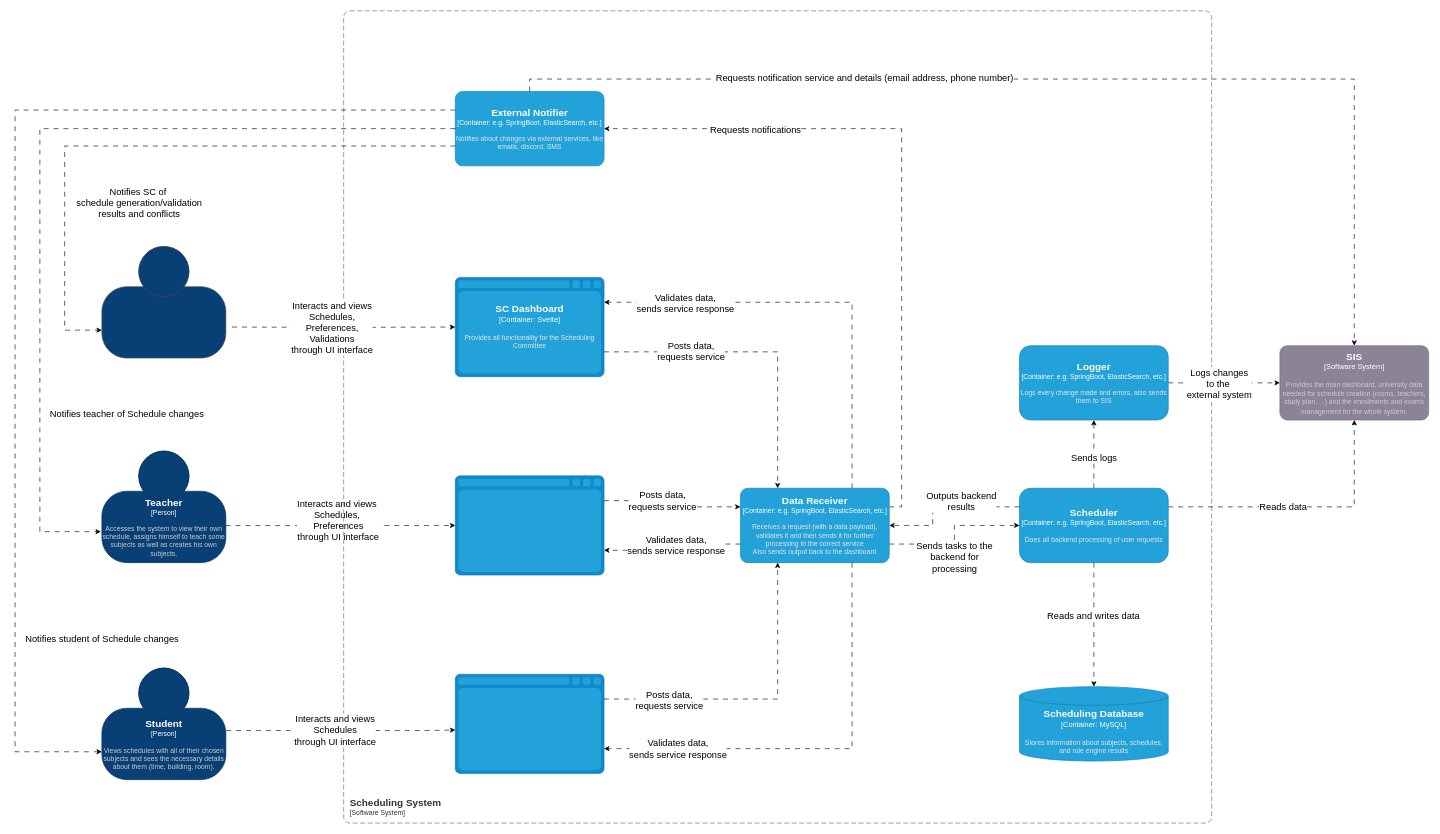
Image size: 1440x834. Some labels were removed from this diagram. Each missing label, with the centre of its shape:
Scheduling committe [Person] Manages and edits schedules.: the point at 163,302
Student Dashboard [Container: Svelte] Provides all functionality for the Student: the point at 529,723
Teacher Dashboard [Container: Svelte] Provides all functionality for Teacher: the point at 529,525
